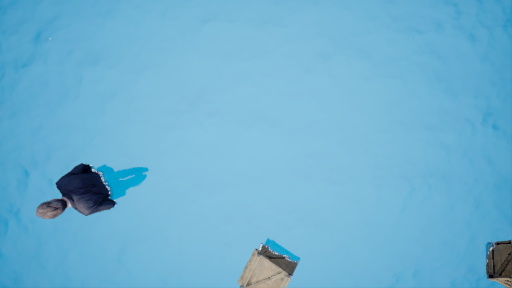person: (31, 159, 160, 223)
